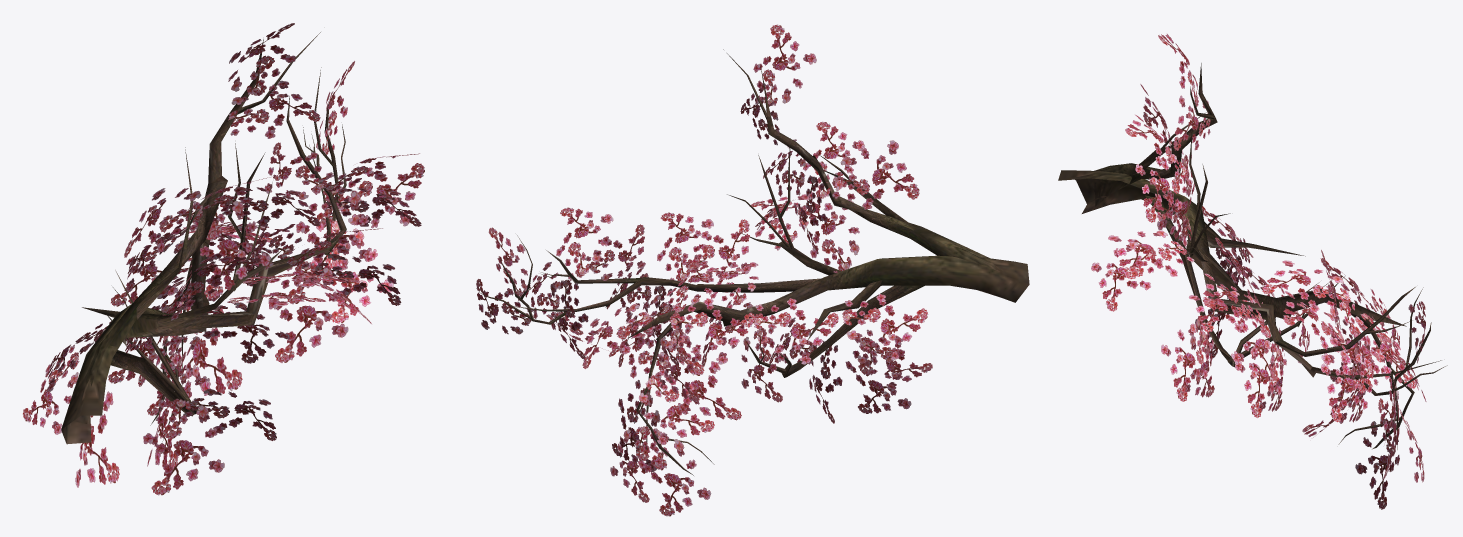
Rendered from S_Tree_Red038_H2.FBX.
The picture shows the model from 3 angles, left to right: view 1: azimuth 30°, elevation 25°; view 2: azimuth 150°, elevation 25°; view 3: azimuth 270°, elevation 25°; orthographic projection. The views are drawn at different scales.
Parts seen in each view (by area): view 1: S_Tree_Red038_H2_2, S_Tree_Red038_H2_1; view 2: S_Tree_Red038_H2_2, S_Tree_Red038_H2_1; view 3: S_Tree_Red038_H2_2, S_Tree_Red038_H2_1.
Part boxes in pixels (x1=…): S_Tree_Red038_H2_2: x1=23, y1=23, x2=424, y2=495; S_Tree_Red038_H2_1: x1=61, y1=32, x2=346, y2=444; S_Tree_Red038_H2_2: x1=476, y1=24, x2=932, y2=516; S_Tree_Red038_H2_1: x1=479, y1=49, x2=1029, y2=475; S_Tree_Red038_H2_2: x1=1091, y1=34, x2=1426, y2=509; S_Tree_Red038_H2_1: x1=1058, y1=63, x2=1447, y2=449.
Size of the model in its own units: 1305 by 1275 by 937.
2 materials, 2 textured.
